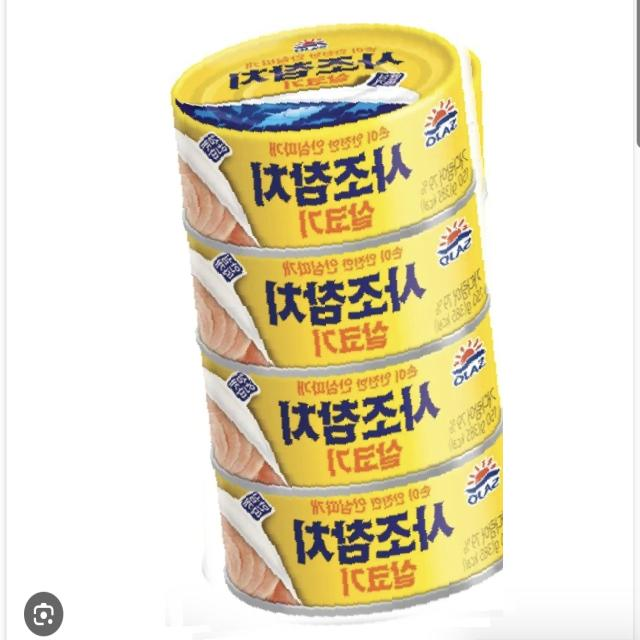recyclable: (152, 23, 503, 634)
